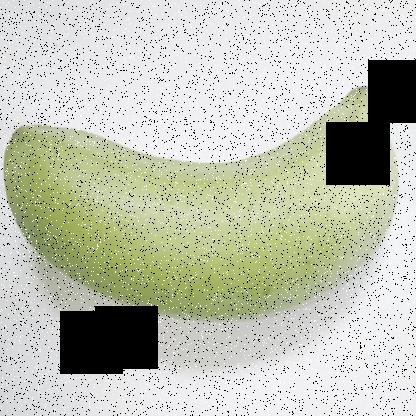freshunripe: (1, 76, 409, 336)
